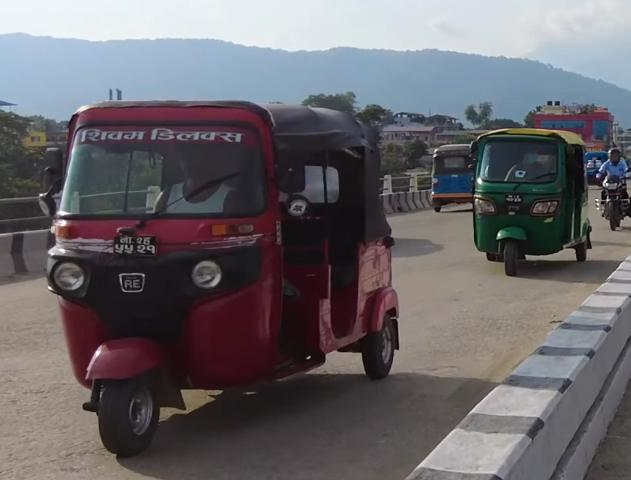auto_rickshaw: (37, 96, 408, 460), (463, 124, 594, 278), (427, 137, 476, 215)
